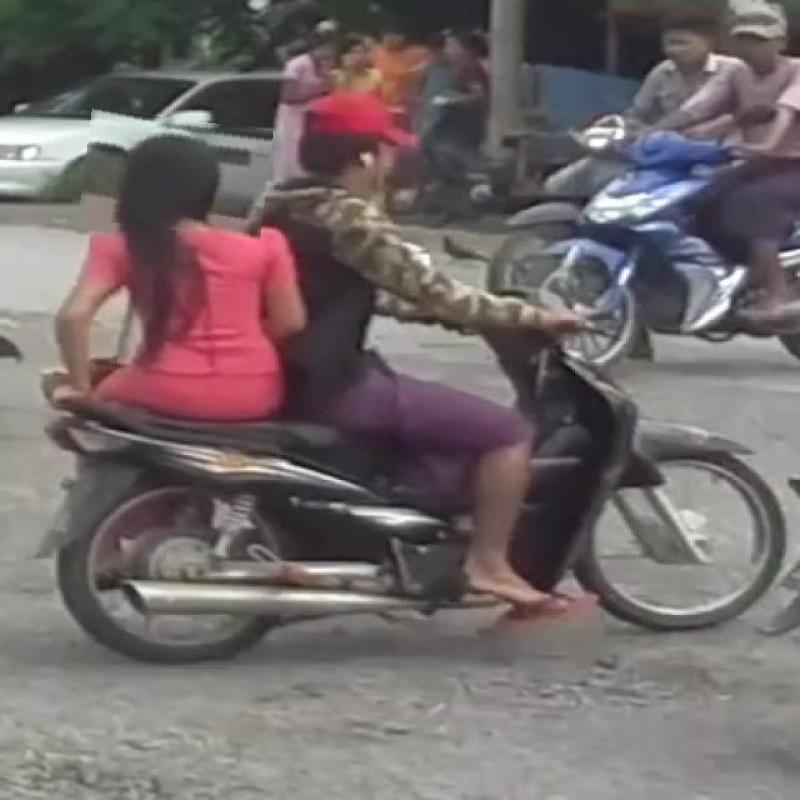nohelmet: (81, 114, 270, 235), (279, 84, 452, 200)
